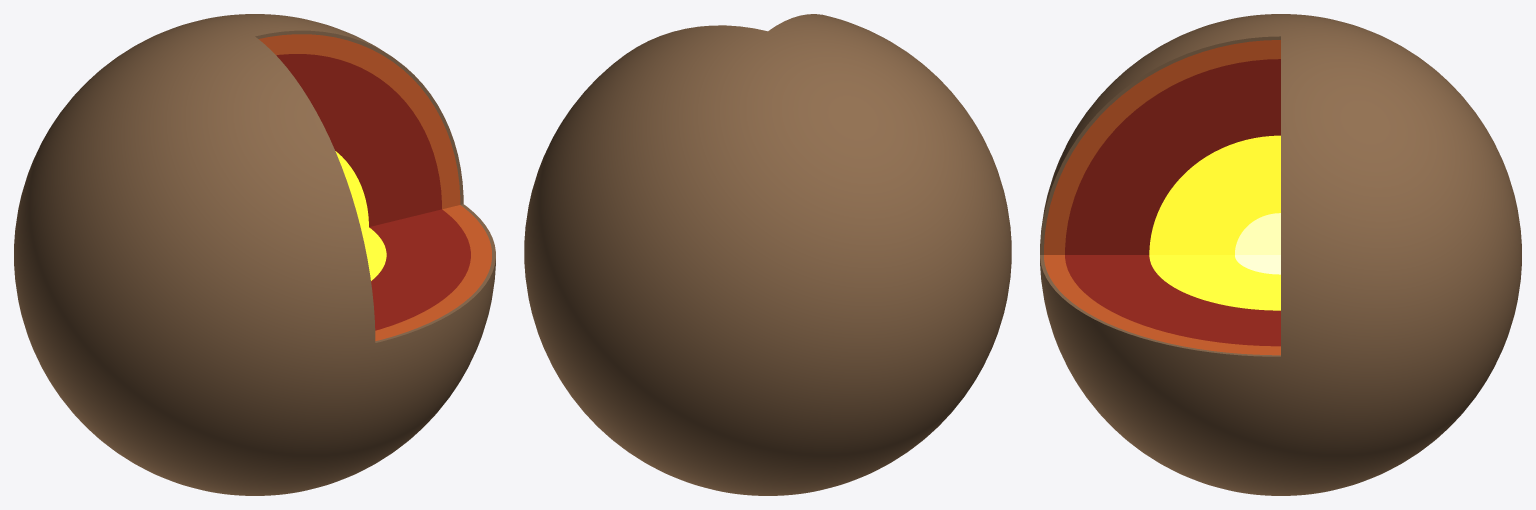
Rendered from earth_cutaway.glb.
3 renders of one model, left to right at view 1: azimuth 30°, elevation 25°; view 2: azimuth 150°, elevation 25°; view 3: azimuth 270°, elevation 25°, orthographic.
Parts seen in each view (by area): view 1: Crust, Lower mantle, Upper mantle, Outer core; view 2: Crust; view 3: Crust, Lower mantle, Outer core, Upper mantle, Inner core.
Part boxes in pixels (<box>): Crust: <box>14,14,495,495</box>; Lower mantle: <box>276,54,470,330</box>; Upper mantle: <box>258,34,491,341</box>; Outer core: <box>335,151,386,280</box>; Crust: <box>524,14,1011,495</box>; Crust: <box>1040,14,1521,495</box>; Lower mantle: <box>1065,59,1280,346</box>; Outer core: <box>1149,135,1280,310</box>; Upper mantle: <box>1044,40,1280,355</box>; Inner core: <box>1235,213,1280,274</box>.
Size of the model in its own units: 12.73 by 12.74 by 12.73.
